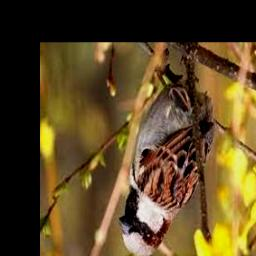Sparrow: (118, 67, 214, 256)
